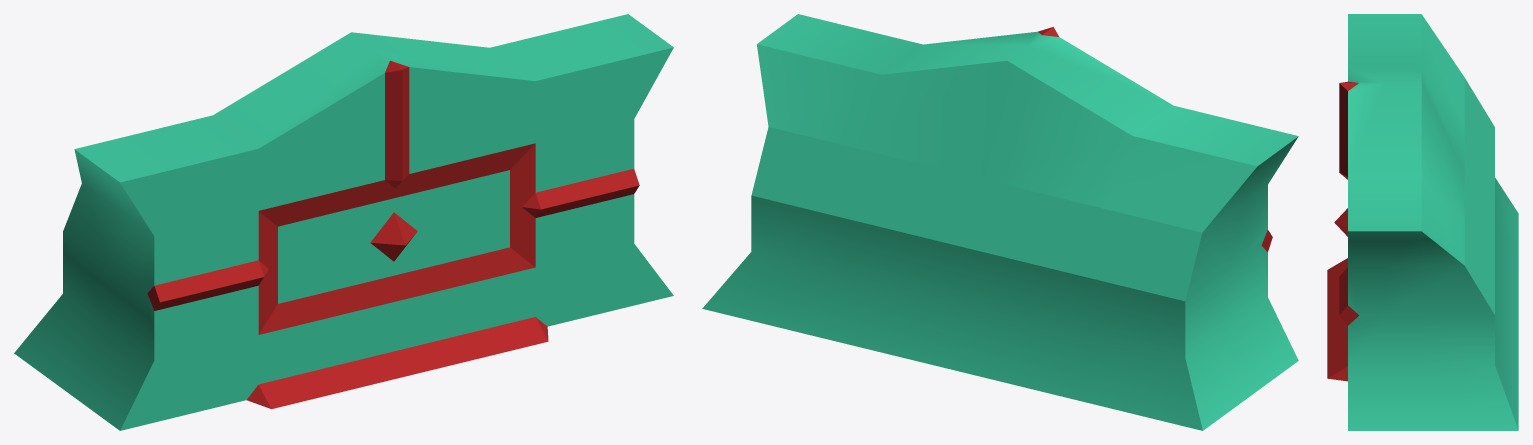
The model's file is Ruins 14.fbx.
3 renders of one model, left to right at view 1: azimuth 30°, elevation 25°; view 2: azimuth 150°, elevation 25°; view 3: azimuth 270°, elevation 25°, orthographic. The views are drawn at different scales.
Visible parts, largest first — view 1: Ruins 14; view 2: Ruins 14; view 3: Ruins 14.
Boxes of the visible parts, <box> form: Ruins 14: <box>14,14,673,430</box>; Ruins 14: <box>702,14,1298,430</box>; Ruins 14: <box>1327,14,1518,430</box>.
Bounding box in the file's own units: 70 × 36.26 × 26.07.
Materials: 2 (2 with a texture image).
